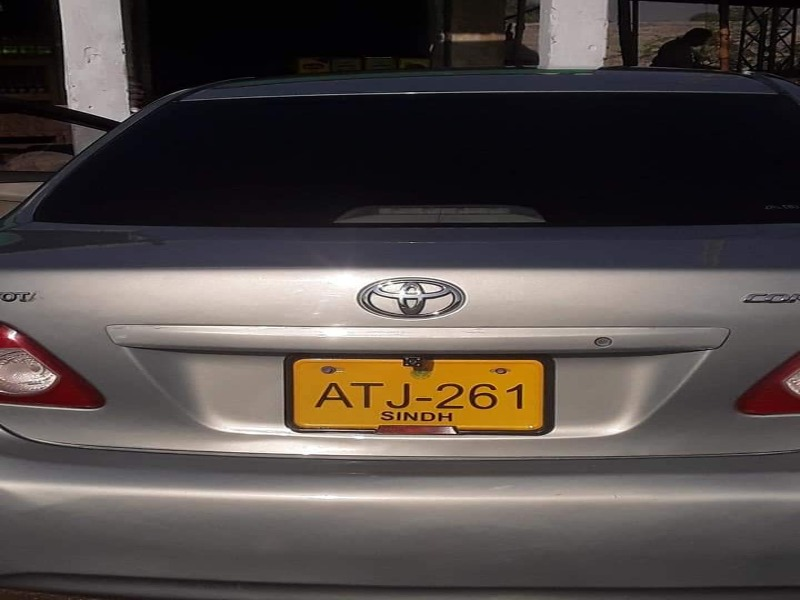License Plate: (279, 348, 559, 446)
